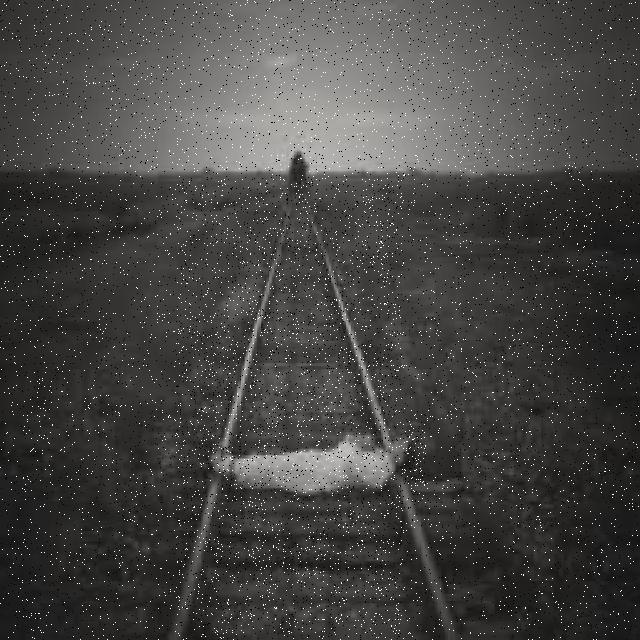danger: (186, 427, 426, 508)
rail: (176, 177, 404, 640)
